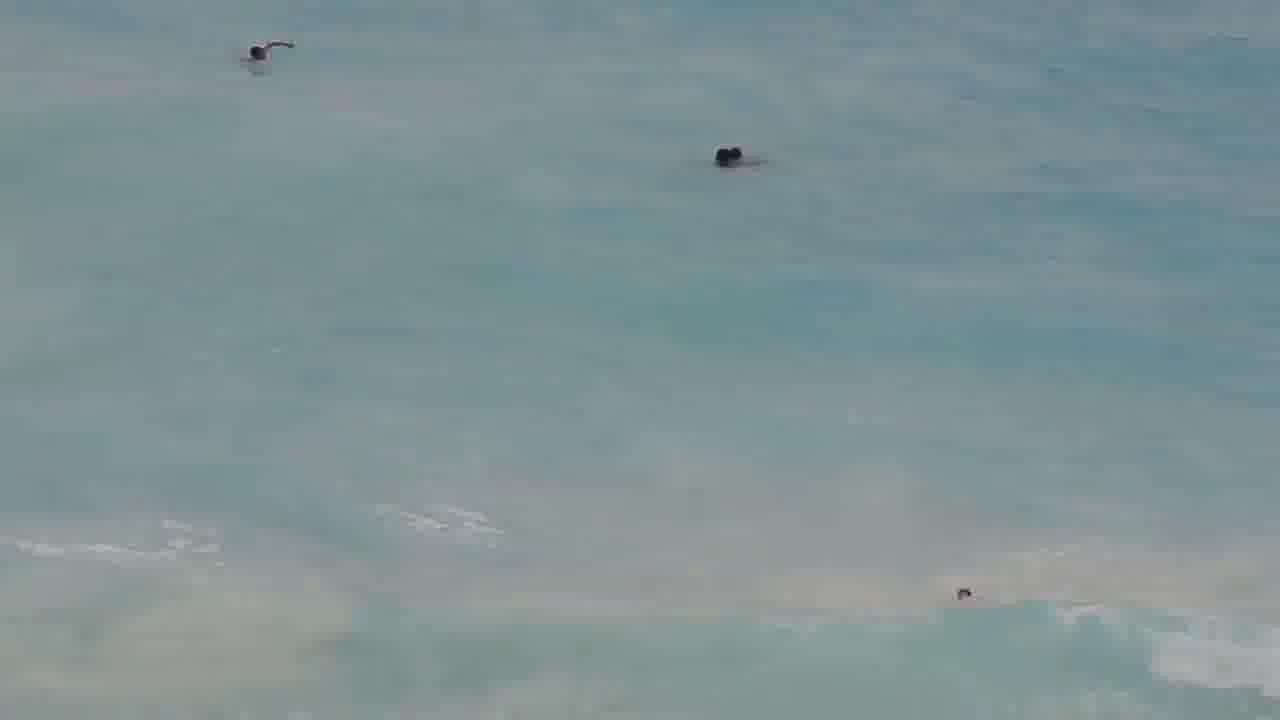swimmer: (699, 126, 770, 173), (233, 37, 303, 76), (944, 578, 991, 606)
